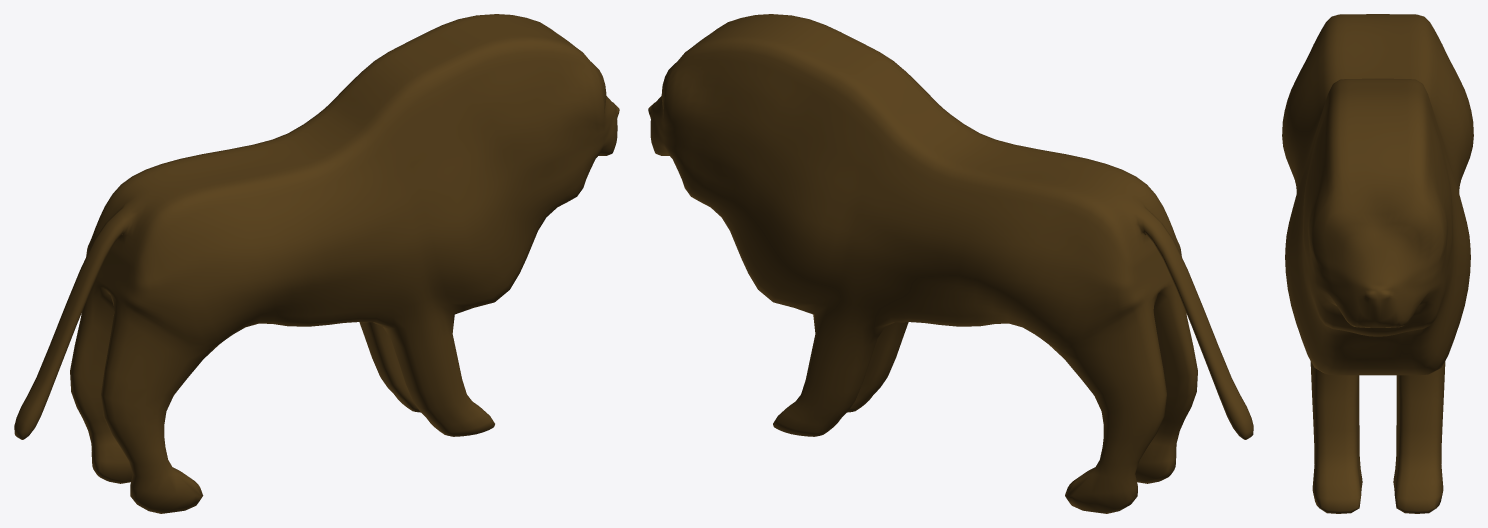
Rendered from lionrig.fbx.
3 views of the same model, side by side, from view 1: azimuth 30°, elevation 25°; view 2: azimuth 150°, elevation 25°; view 3: azimuth 270°, elevation 25° (orthographic). The views are drawn at different scales.
Parts seen in each view (by area): view 1: Plane; view 2: Plane; view 3: Plane.
Boxes of the visible parts, x1,y1,x2,y2 form: Plane: (14,14,619,513); Plane: (648,14,1253,513); Plane: (1282,14,1473,513).
Bounding box in the file's own units: 364 × 223 × 91.41.
